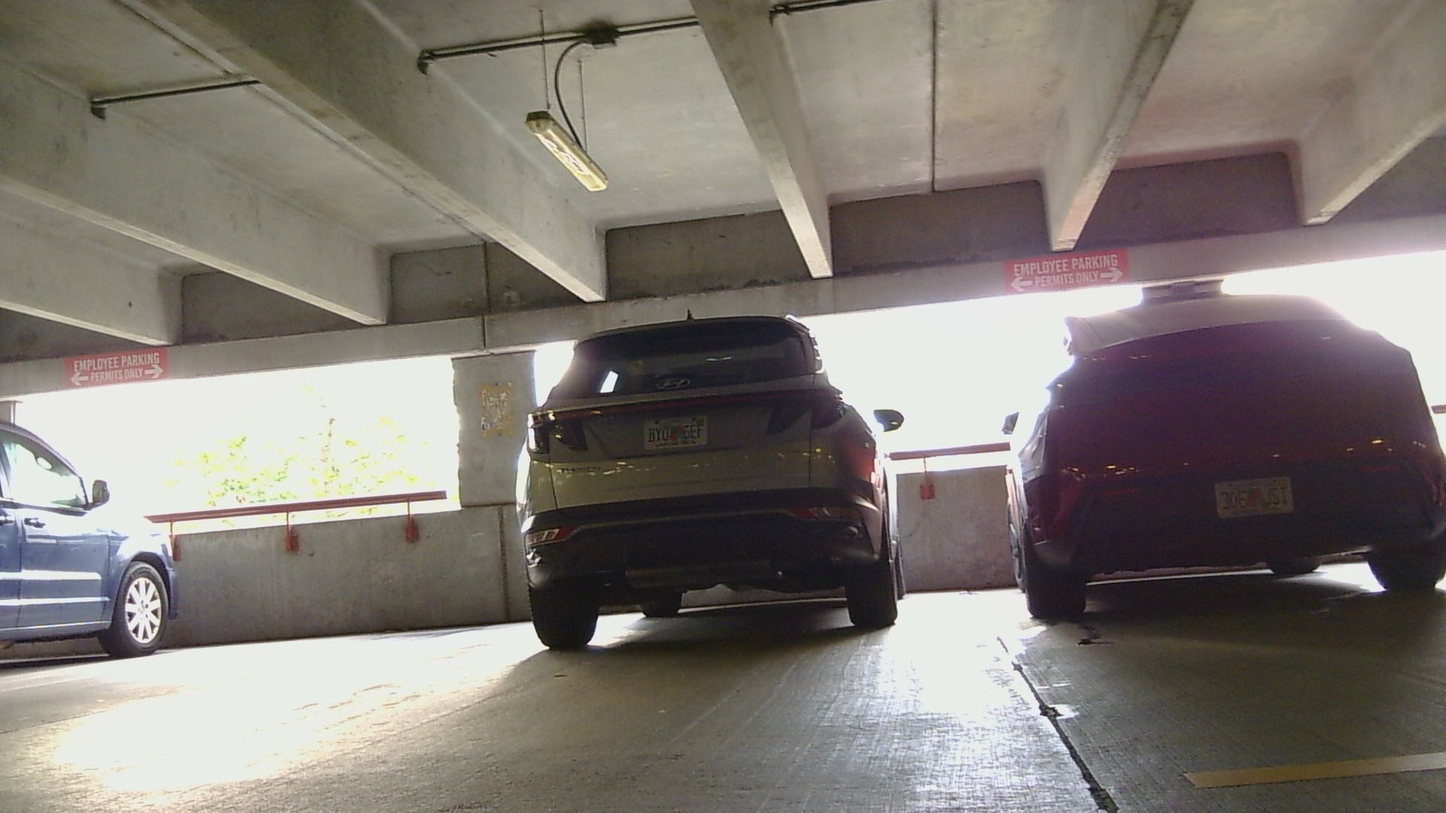empty_spot: (0, 557, 528, 693)
occupied_spot: (977, 269, 1446, 647), (514, 304, 906, 650), (0, 414, 174, 684)
